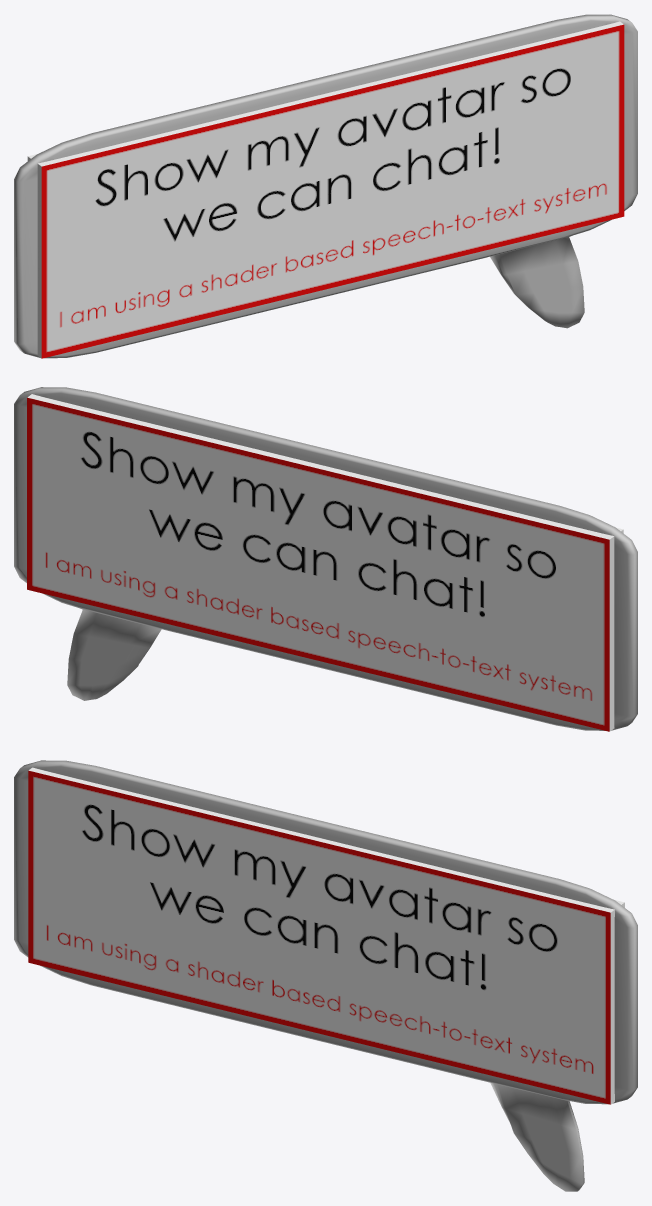
File: Billboard FBX.fbx
3 views of the same model, one above another, from view 1: azimuth 30°, elevation 25°; view 2: azimuth 150°, elevation 25°; view 3: azimuth 330°, elevation 25° (orthographic).
Parts seen in each view (by area): view 1: Show Avatar, Billboard; view 2: Show Avatar, Billboard; view 3: Show Avatar, Billboard.
Part boxes in pixels (<box>): Show Avatar: <box>27,14,624,358</box>; Billboard: <box>14,14,637,358</box>; Show Avatar: <box>27,394,623,731</box>; Billboard: <box>14,387,637,730</box>; Show Avatar: <box>28,767,624,1104</box>; Billboard: <box>14,760,637,1191</box>.
Bounding box in the file's own units: 61.12 × 29.04 × 2.4.
